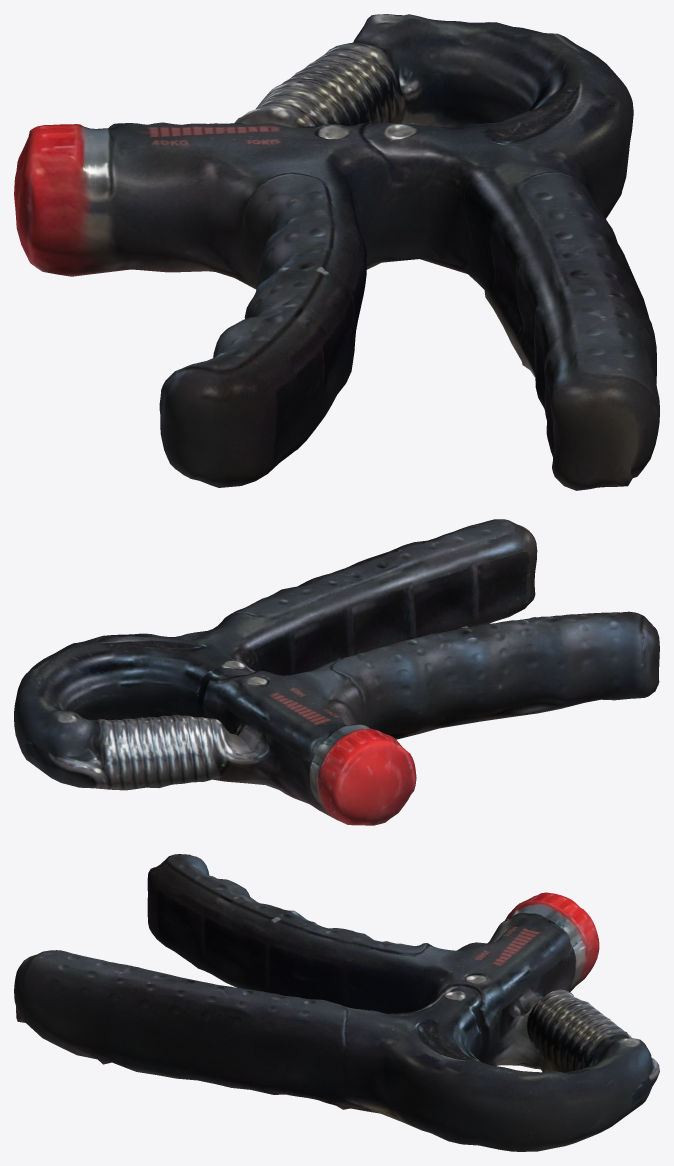
Rendered from hand_grips.obj.
3 views of the same model, one above another, from view 1: azimuth 30°, elevation 25°; view 2: azimuth 150°, elevation 25°; view 3: azimuth 270°, elevation 25° (orthographic). The views are drawn at different scales.
Parts seen in each view (by area): view 1: mesh_0; view 2: mesh_0; view 3: mesh_0.
Part boxes in pixels (x1,y1,x2,y2): mesh_0: (14, 14, 659, 490); mesh_0: (14, 519, 659, 825); mesh_0: (14, 854, 659, 1151).
Size of the model in its own units: 0.1224 by 0.0251 by 0.1496.
Materials: 1 (1 with a texture image).
